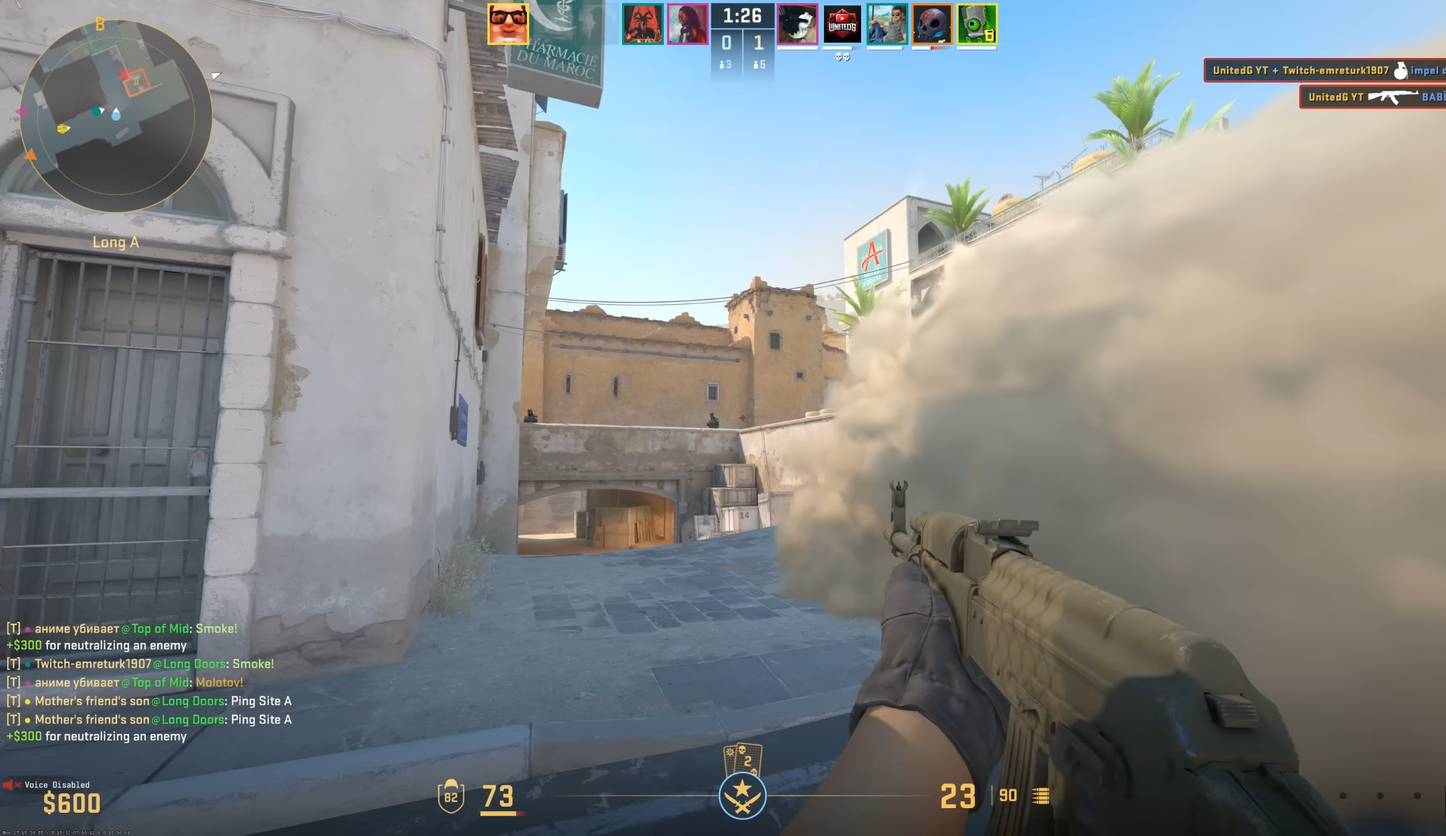CT: (707, 413, 719, 427)
